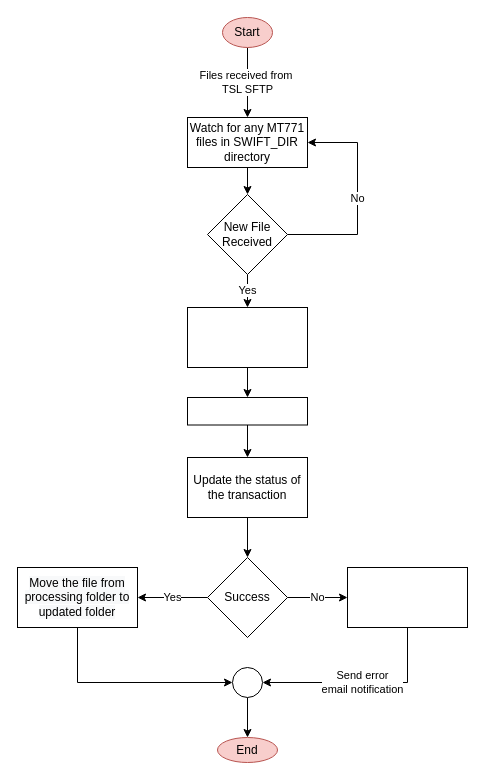
Image size: 485x780. Some labels were removed from this diagram. Here are the shapes that lost their labels. From the top down, the box of each, then its label:
(186, 306, 308, 368): Archive the file and copy the file to processing folder
(186, 396, 308, 425): Process the file
(346, 566, 468, 628): Move the file from processing folder to error folder
